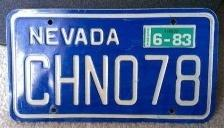0: (113, 53, 140, 107)
7: (144, 53, 171, 107)
8: (173, 54, 202, 107)
C: (24, 52, 53, 107)
H: (53, 52, 82, 106)
N: (83, 54, 111, 106)
